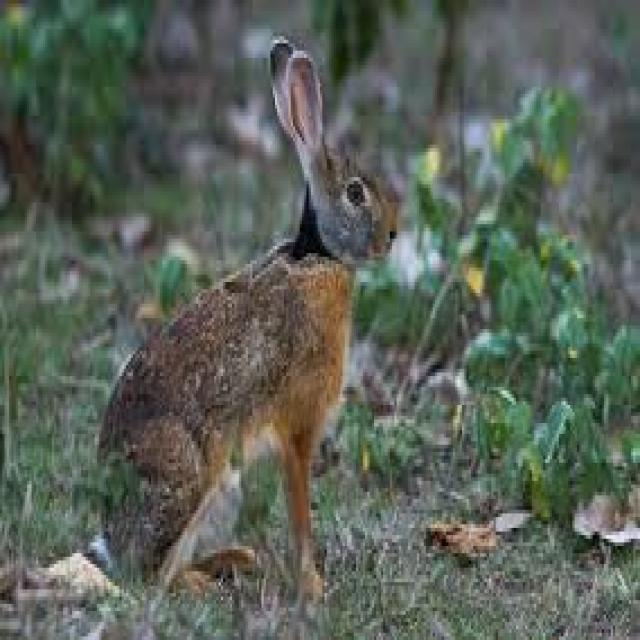Hare: (93, 31, 403, 594)
